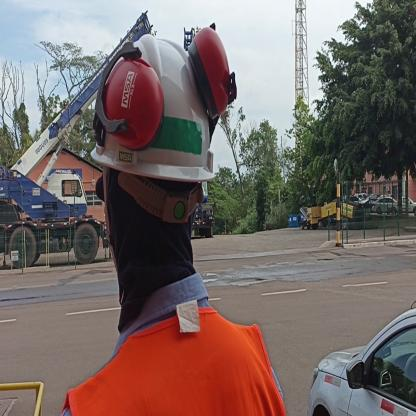Balaclava: (98, 159, 197, 307)
Capacete: (101, 29, 218, 185)
